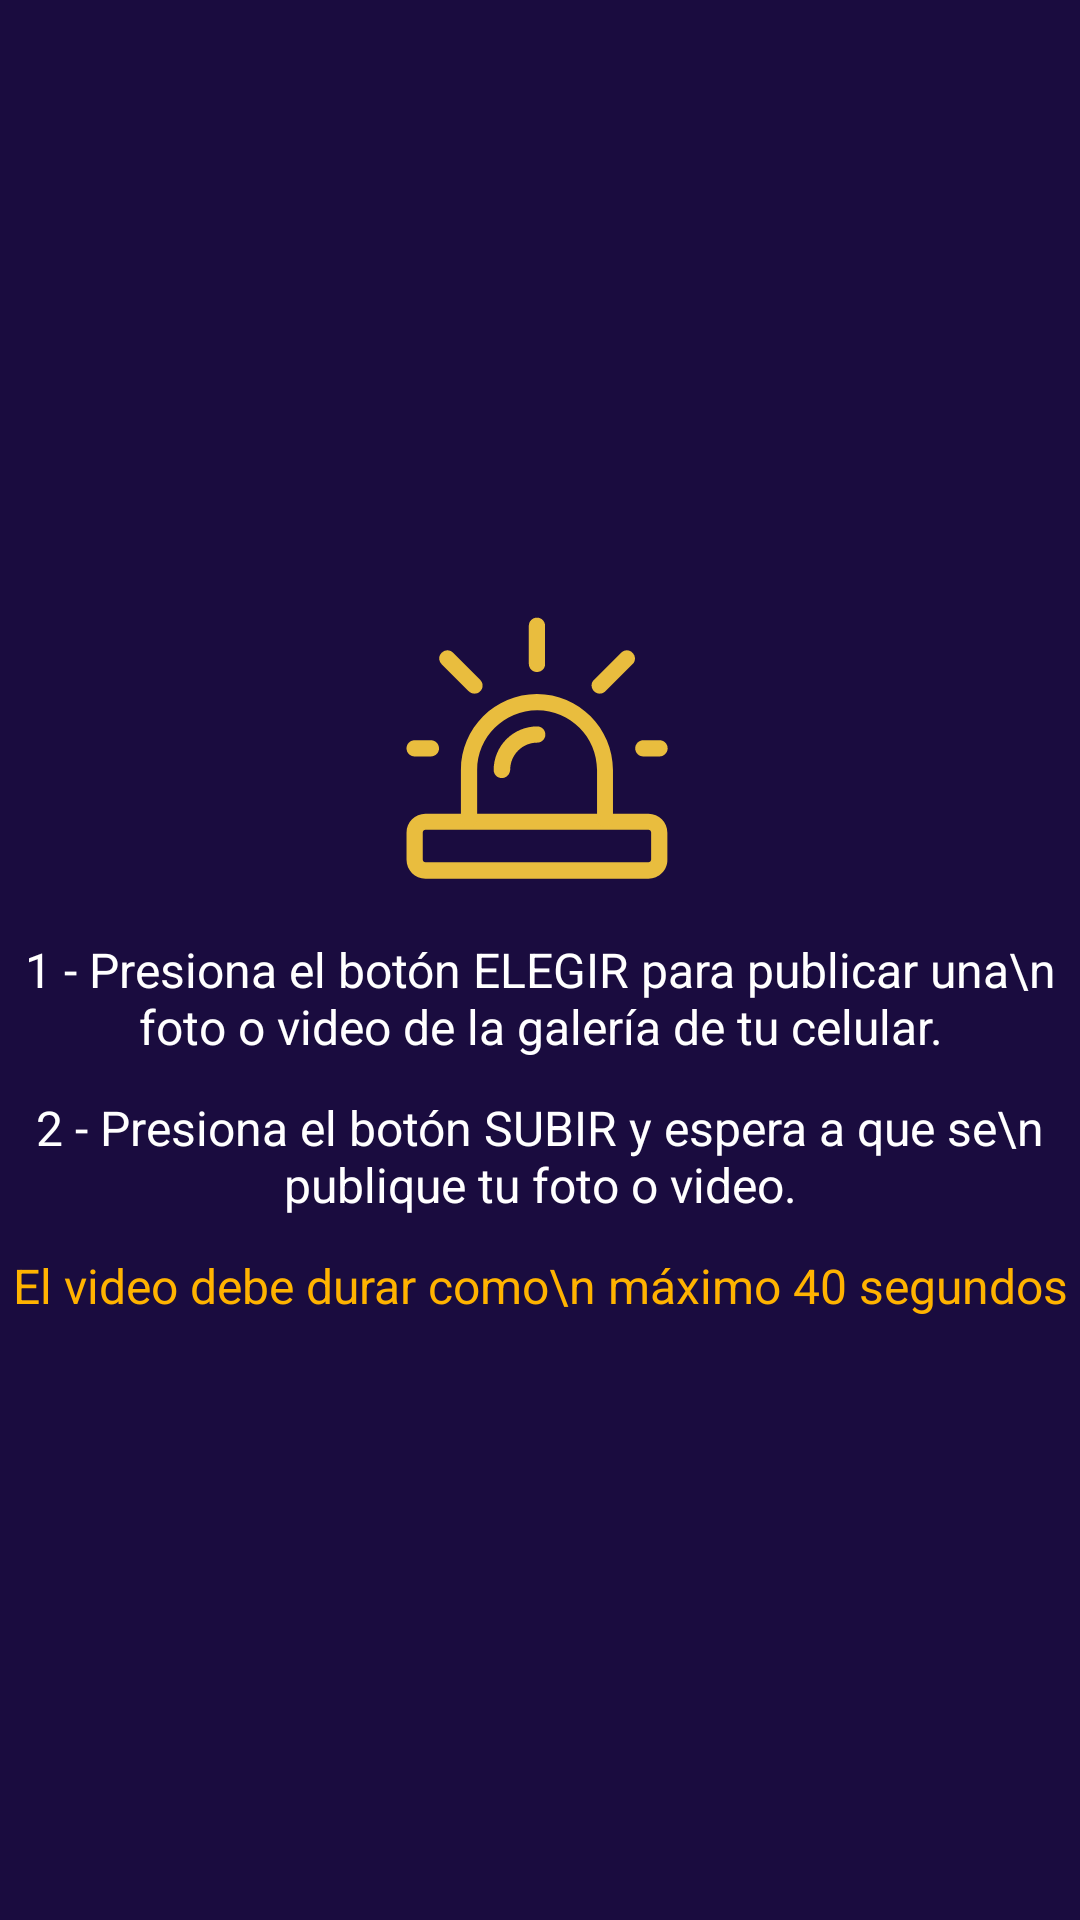

Screen size 1080 × 1920. Icon name, then its center in pixels as [x,y]:
alert: [537,748]
